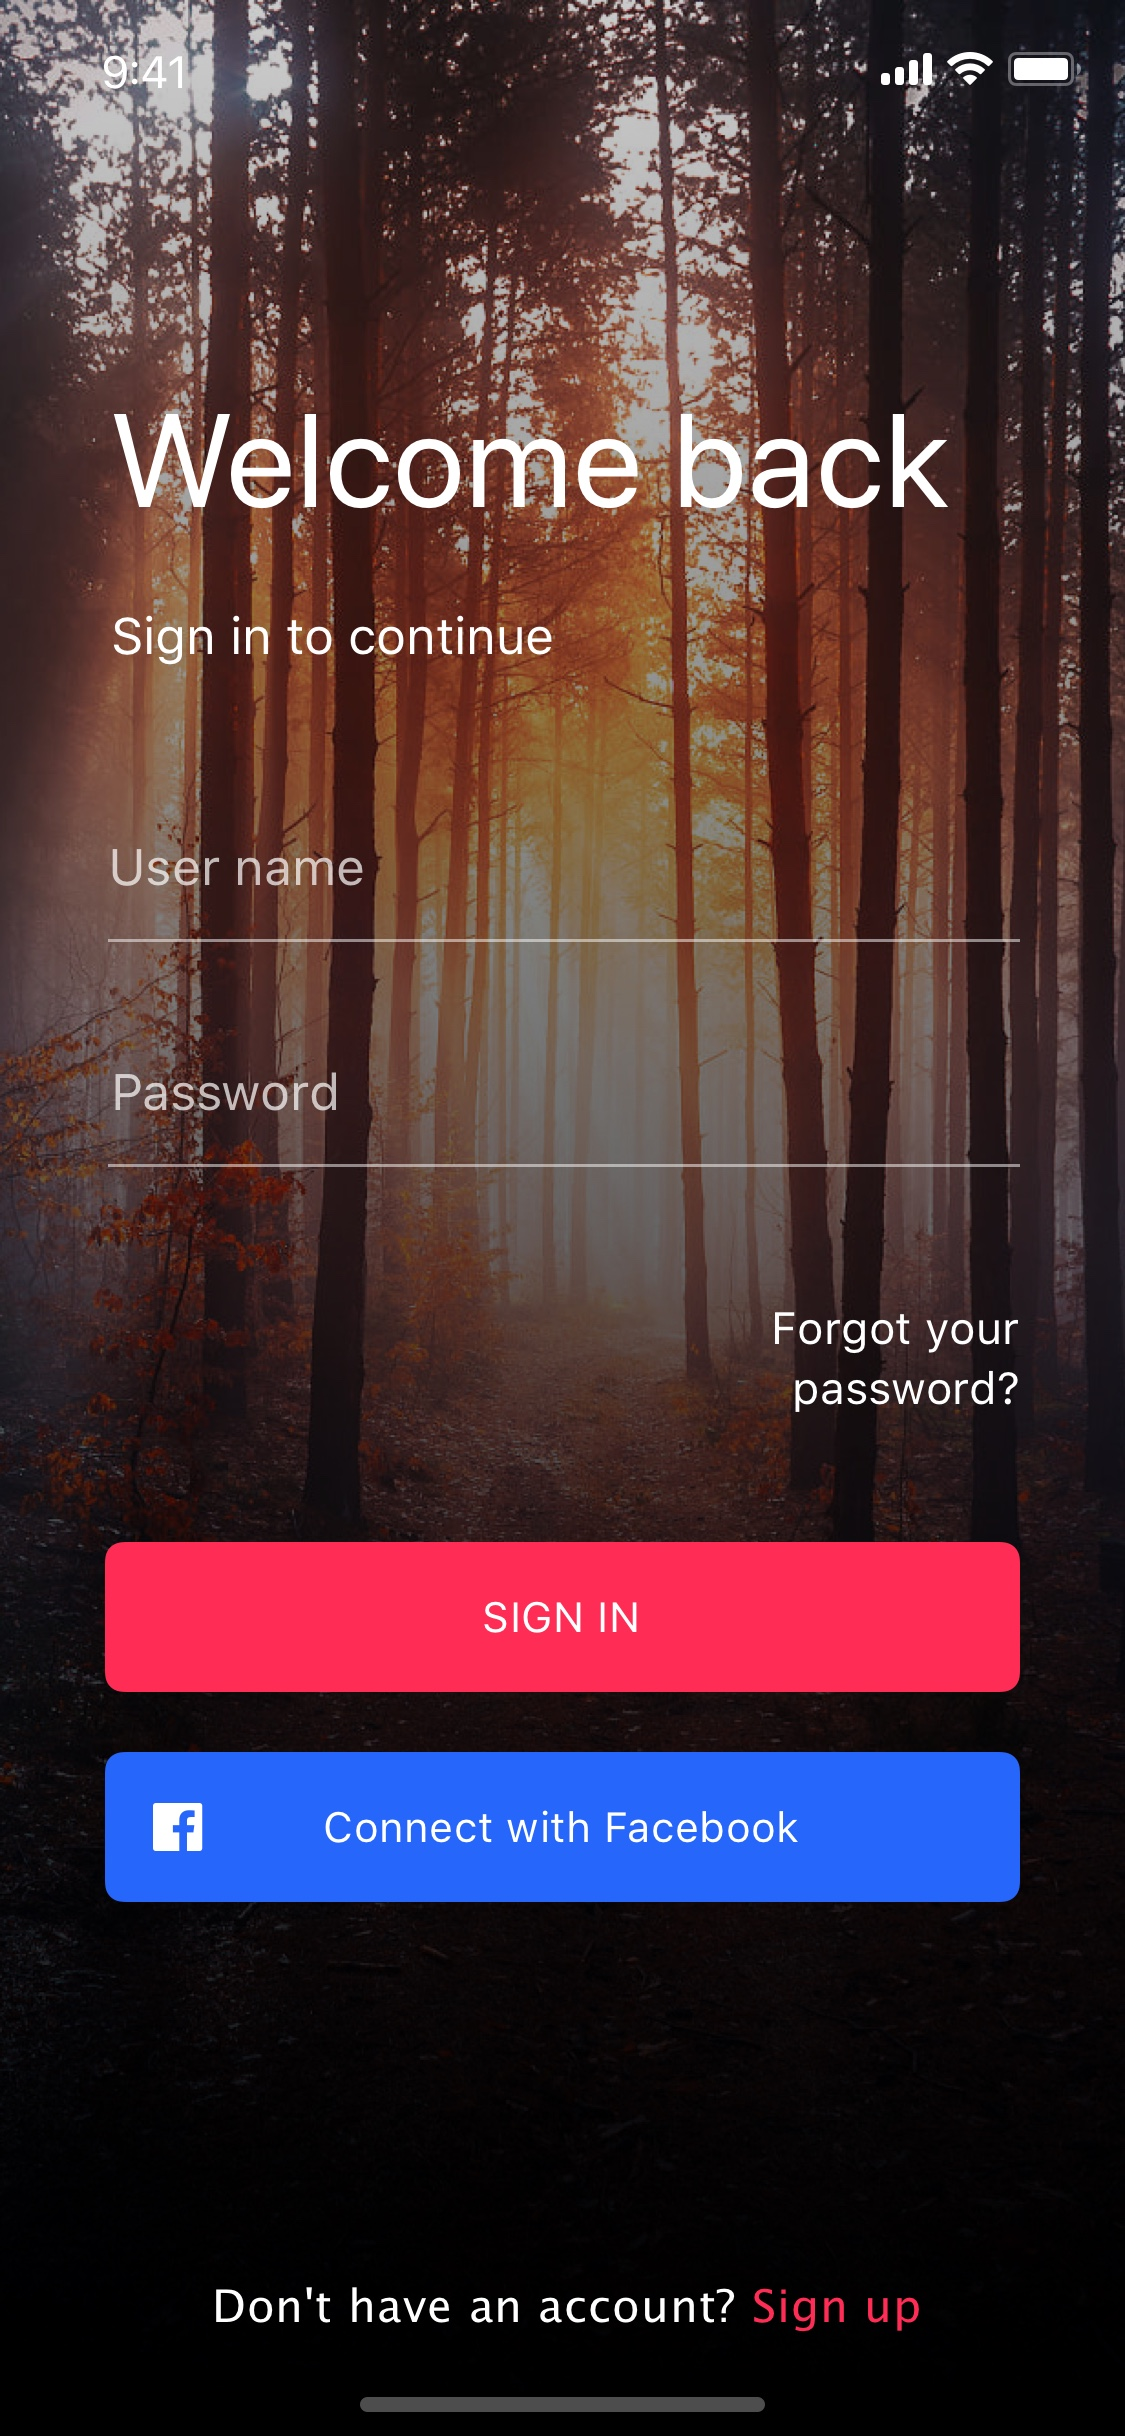BackgroundImage: (2, 2, 1125, 2436)
EditText: (109, 848, 1021, 945), (109, 1072, 1021, 1168)
Text: (113, 413, 949, 510), (216, 2285, 920, 2333), (774, 1311, 1019, 1414), (113, 615, 553, 666), (113, 848, 364, 889), (117, 1072, 339, 1112)
TextButton: (106, 1543, 1021, 1693), (106, 1752, 1019, 1903)
UpperTaskBar: (104, 51, 1083, 92)
